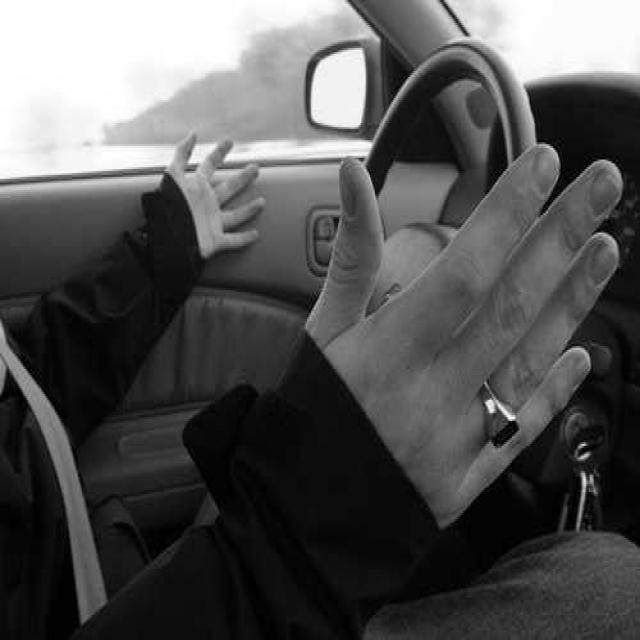seatbelt: (15, 313, 109, 621)
